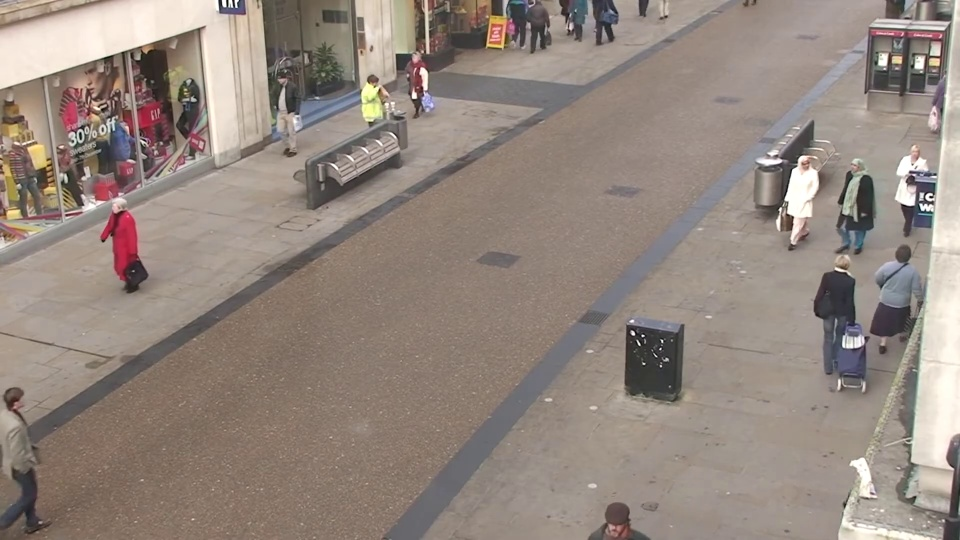pedestrian: (5, 367, 79, 531), (877, 234, 931, 364), (815, 245, 865, 376), (88, 198, 139, 313), (886, 141, 933, 247), (825, 156, 867, 263), (779, 151, 818, 257), (264, 72, 295, 154), (359, 71, 389, 154), (400, 49, 428, 126)
